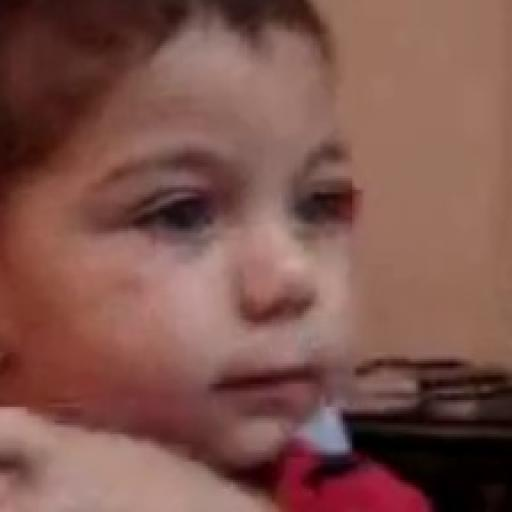Autism: (12, 4, 378, 483)
